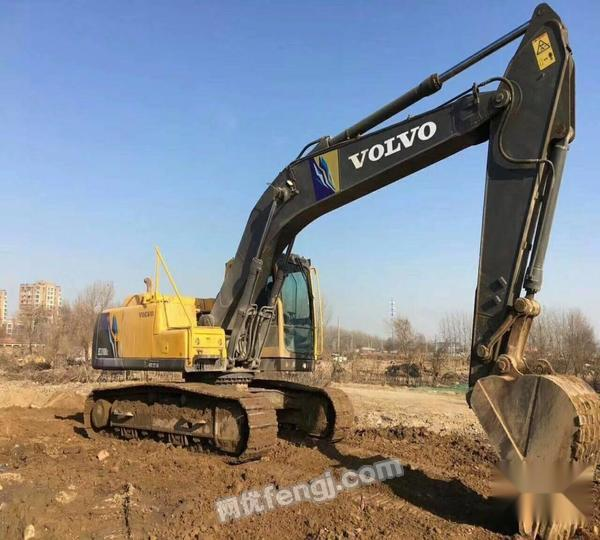excavator: (70, 4, 597, 540)
